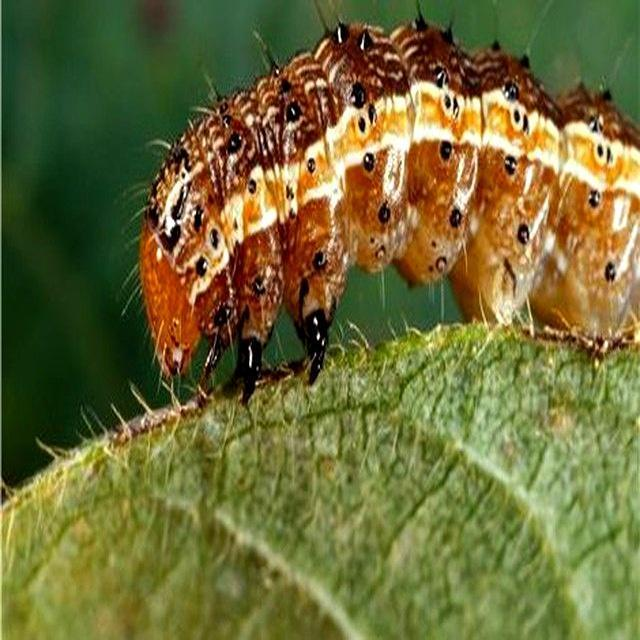gusano_cogollero: (135, 27, 640, 380)
